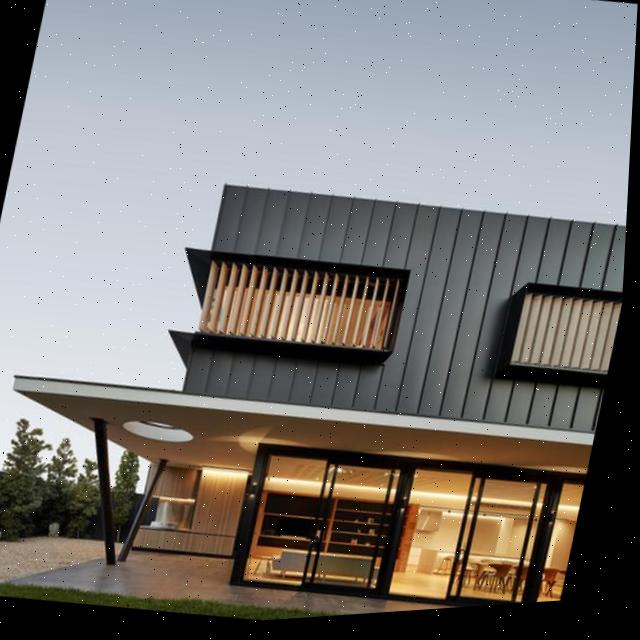building: (0, 127, 631, 639)
